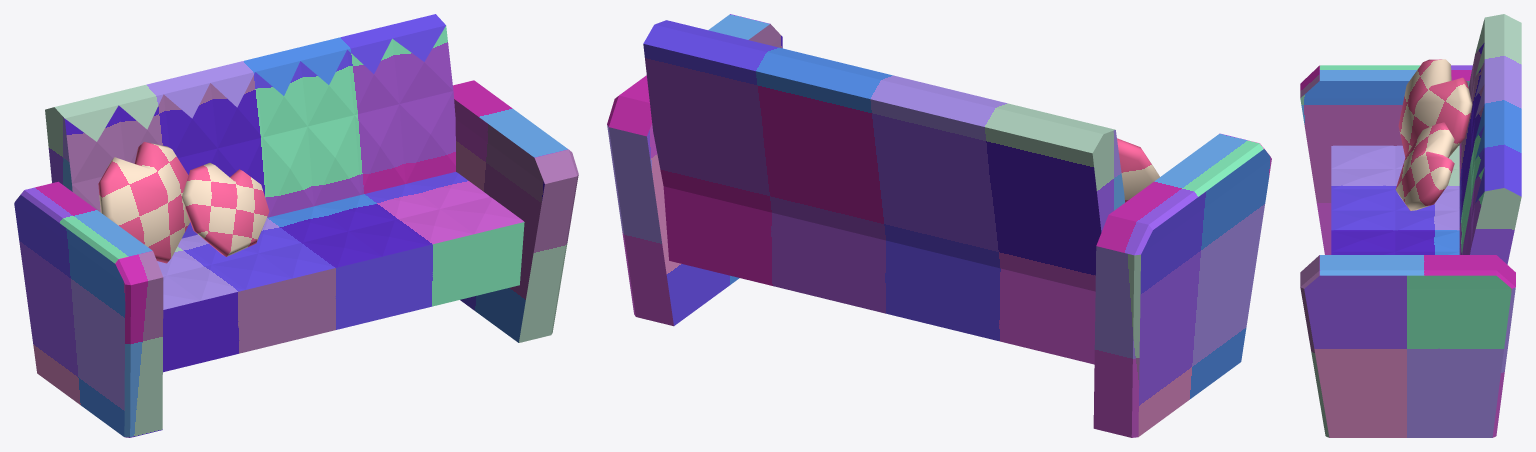
The model's file is rmk_lov_chairL_jwl.dae.
3 renders of one model, left to right at view 1: azimuth 30°, elevation 25°; view 2: azimuth 150°, elevation 25°; view 3: azimuth 270°, elevation 25°, orthographic. The views are drawn at different scales.
Visible parts, largest first — view 1: rmk_lov_chairL_jwl; view 2: rmk_lov_chairL_jwl; view 3: rmk_lov_chairL_jwl.
Part boxes in pixels (x1,y1,x2,y2): rmk_lov_chairL_jwl: [14, 14, 578, 437]; rmk_lov_chairL_jwl: [607, 14, 1271, 437]; rmk_lov_chairL_jwl: [1300, 14, 1521, 437].
Bounding box in the file's own units: 62.08 × 33.24 × 27.86.
2 materials, 2 textured.
